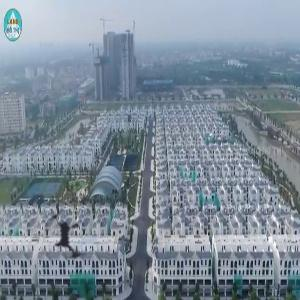drone: (22, 189, 113, 280)
